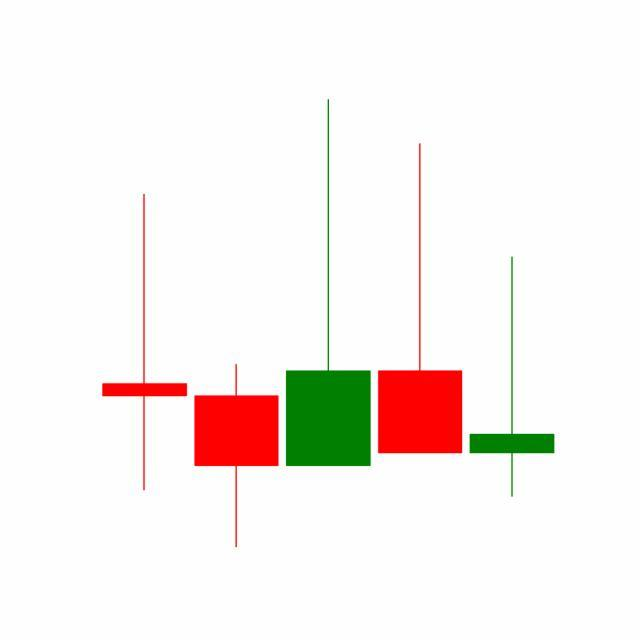Spinning Top: (466, 255, 559, 501)
